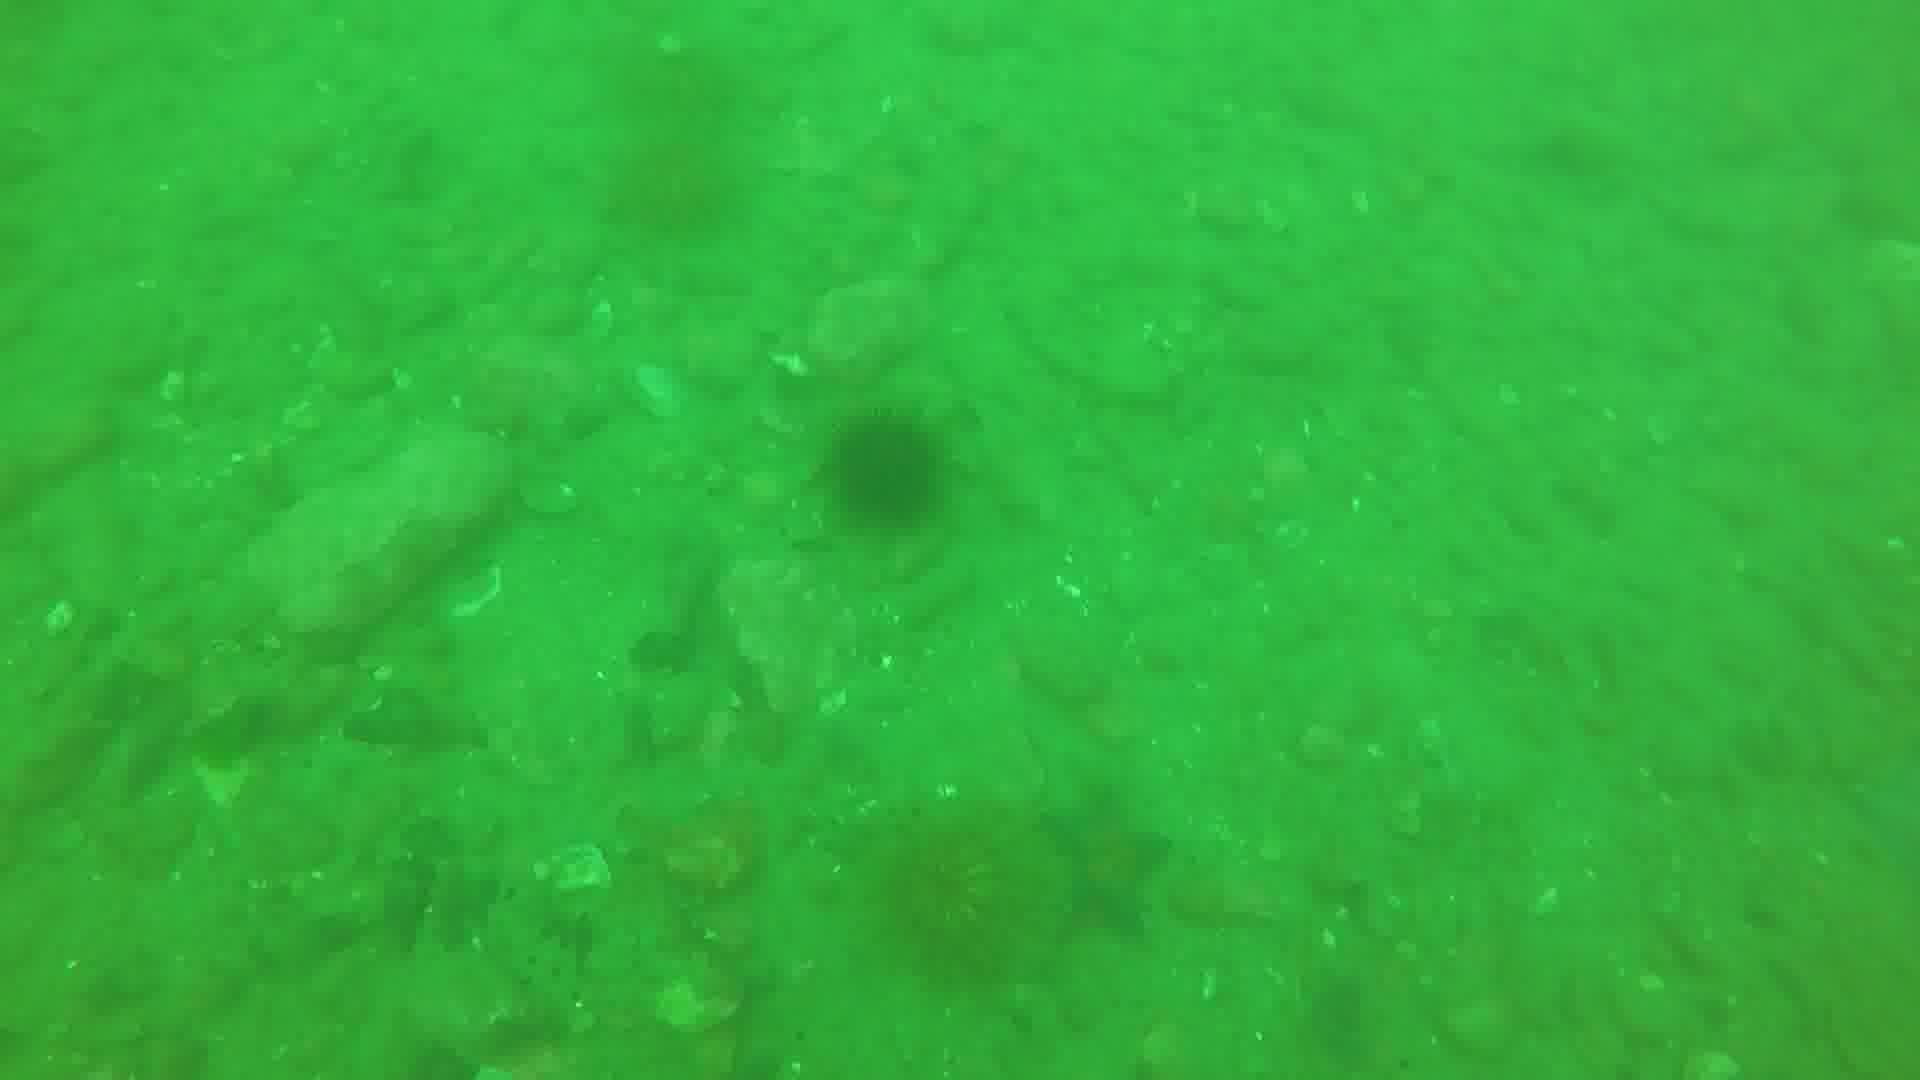echinus: (837, 800, 1040, 996), (822, 415, 949, 517)
starfish: (1038, 796, 1163, 934)
